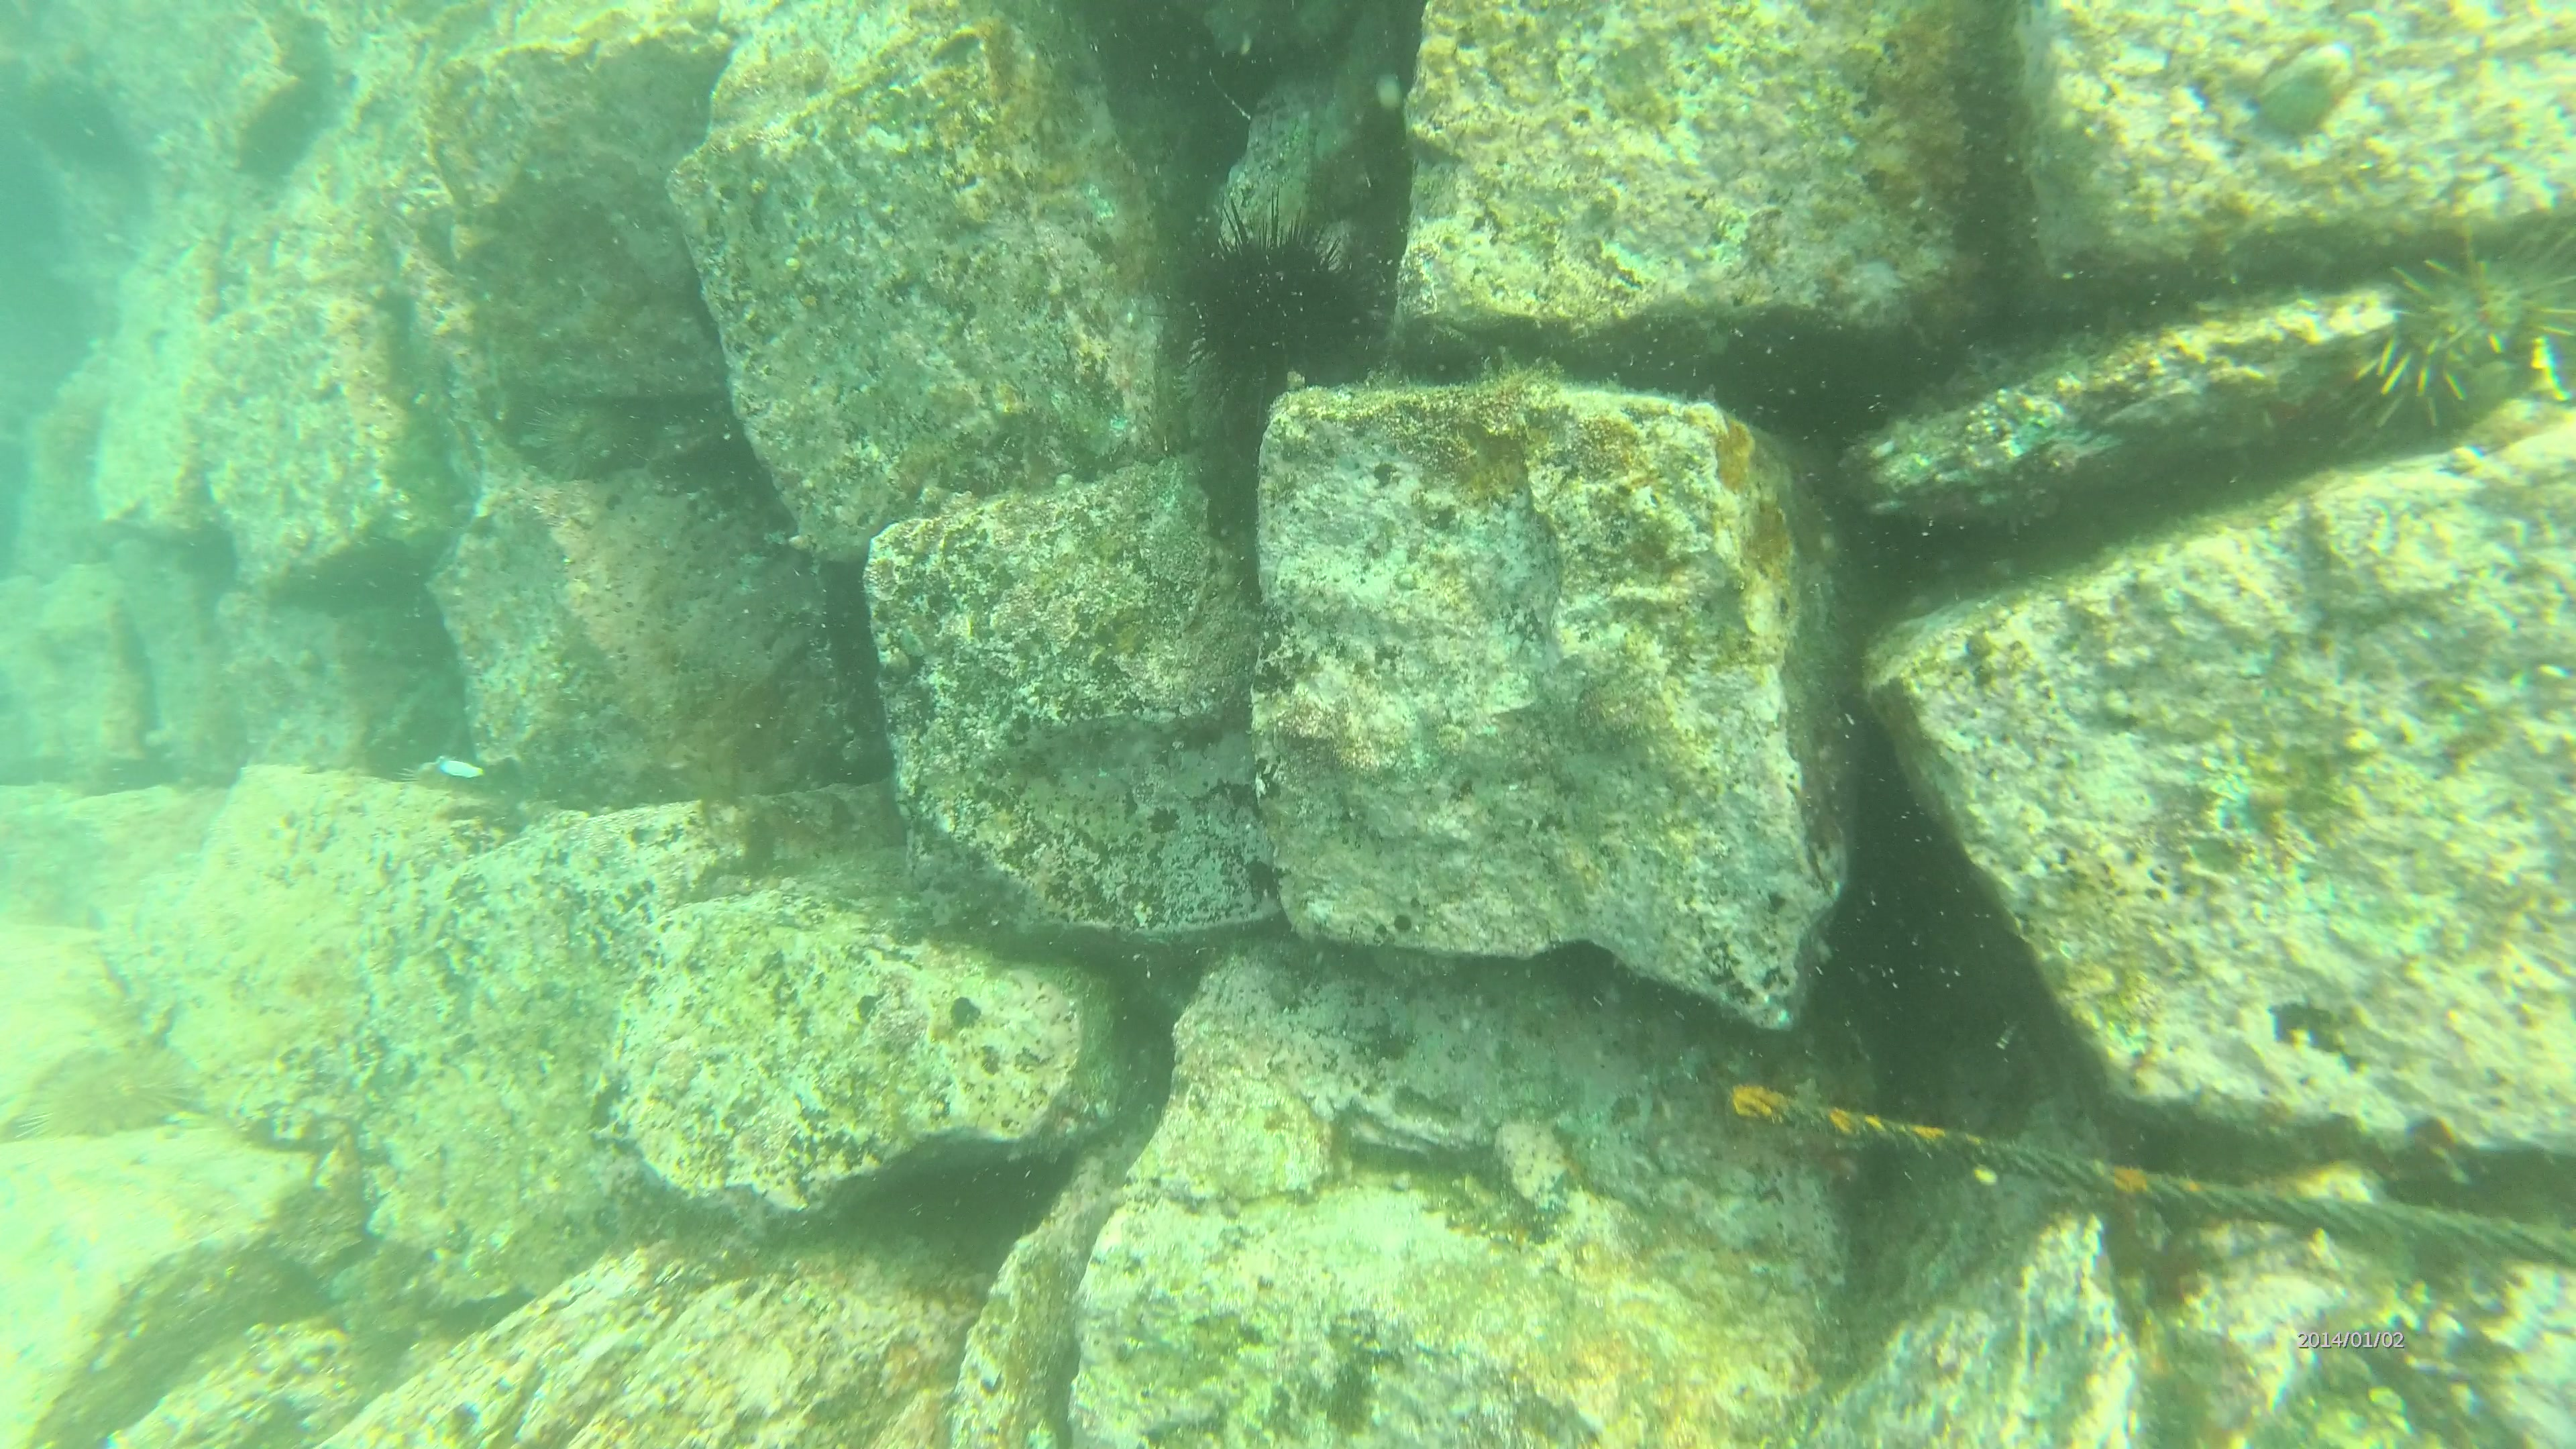echinus: (2380, 209, 2576, 448), (1180, 200, 1376, 375), (513, 386, 655, 490)
